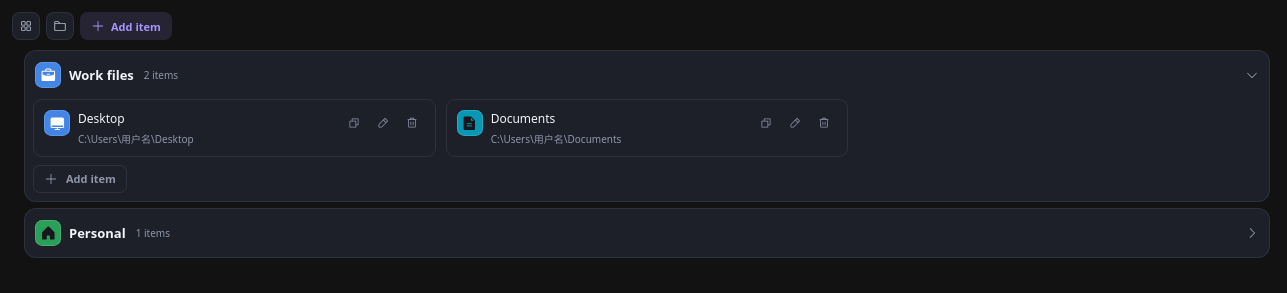
SectionActions: the page follows the switch › redraws the page as a grid and as a list again
What coordinates should you click on to do the following:
click the button with test id "toggle-view-mode"
I would click on:
 (26, 26)
Its box is [12,12,40,40].
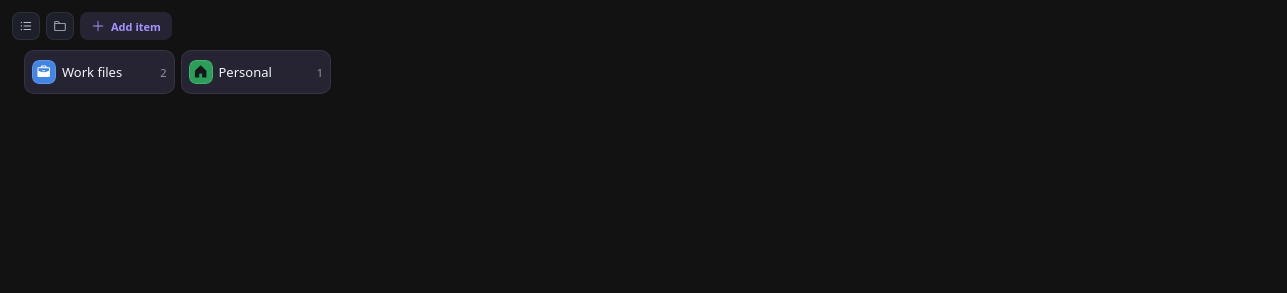
Expected: the element with test id "widget-grid-folders" is shown, [24,50,331,94]
Expected: the element with test id "list-section-folders" is gone
What coordinates should you click on to do the following:
click the button with test id "toggle-view-mode"
I would click on:
 (26, 26)
Its box is [12,12,40,40].
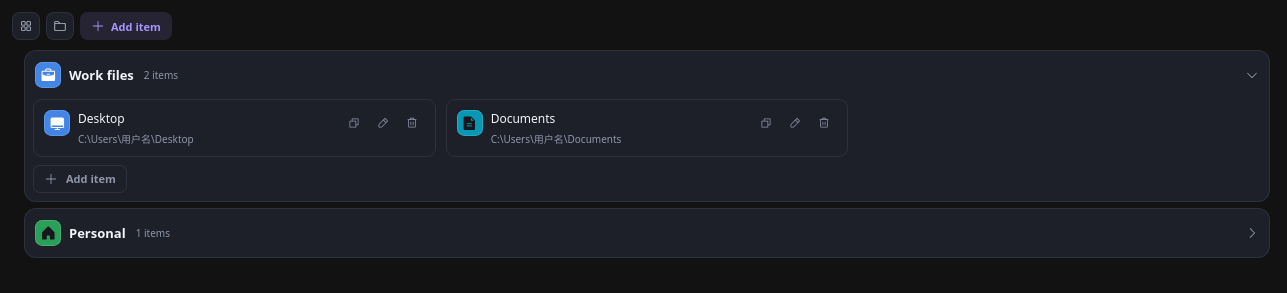
Expected: the element with test id "list-section-folders" is shown
Expected: the element with test id "widget-grid-folders" is gone
